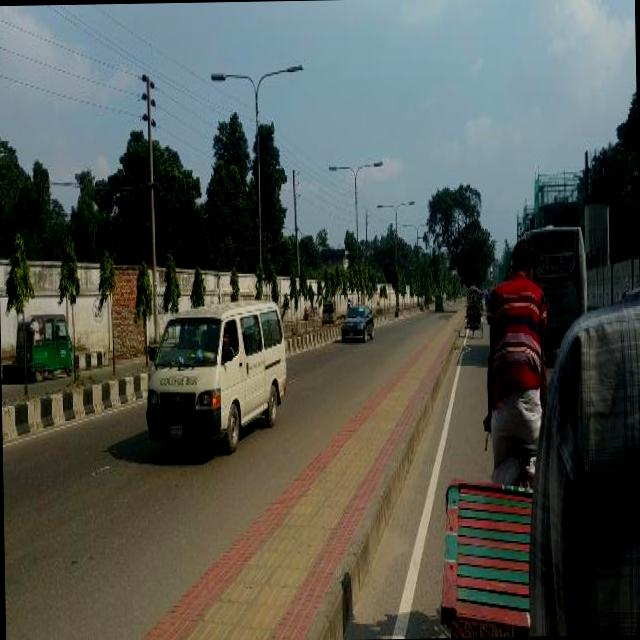bus: (526, 222, 588, 344)
car: (338, 299, 372, 338)
motorcycle: (12, 310, 74, 379), (462, 284, 483, 338), (320, 296, 335, 322), (434, 293, 441, 311)
truck: (142, 296, 288, 444)
